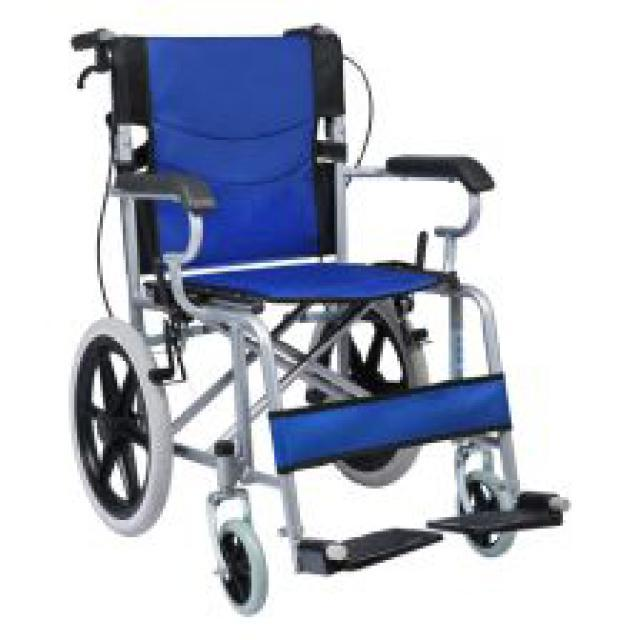wheelchair: (46, 20, 580, 617)
